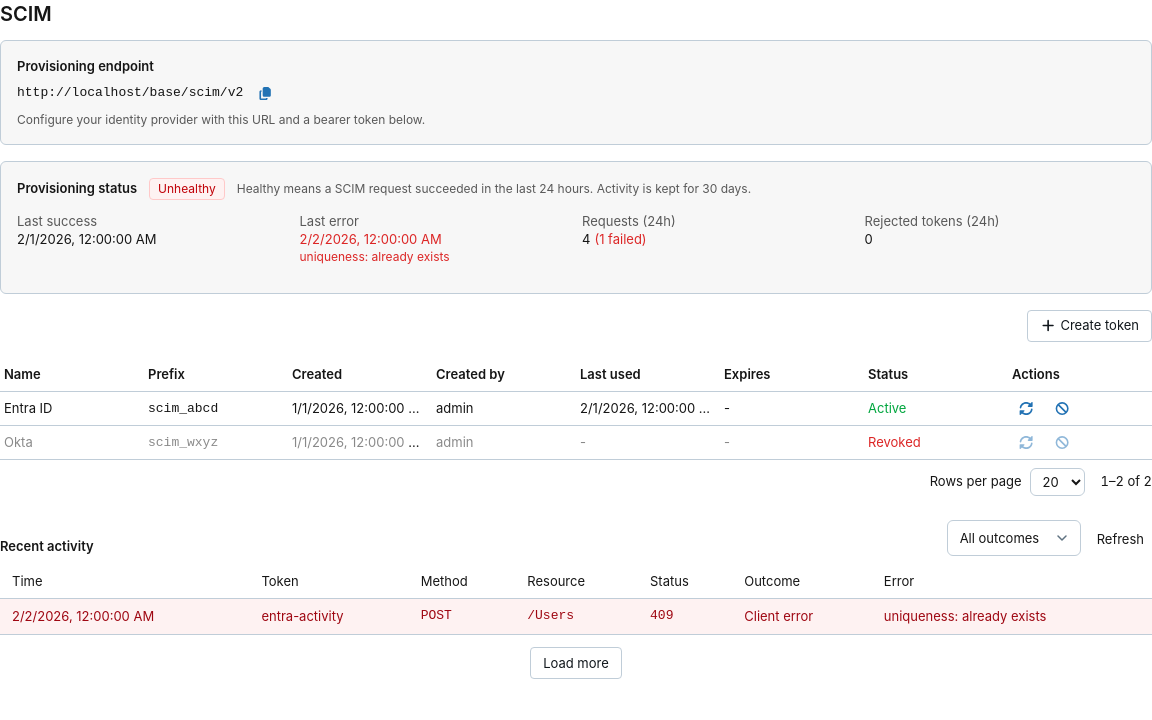
Test: ScimPage › rotates a token after confirmation and refreshes the list
Click the button titled "Rotate" in the row of "Entra ID" at (1026, 408), box [1012,394,1040,422]
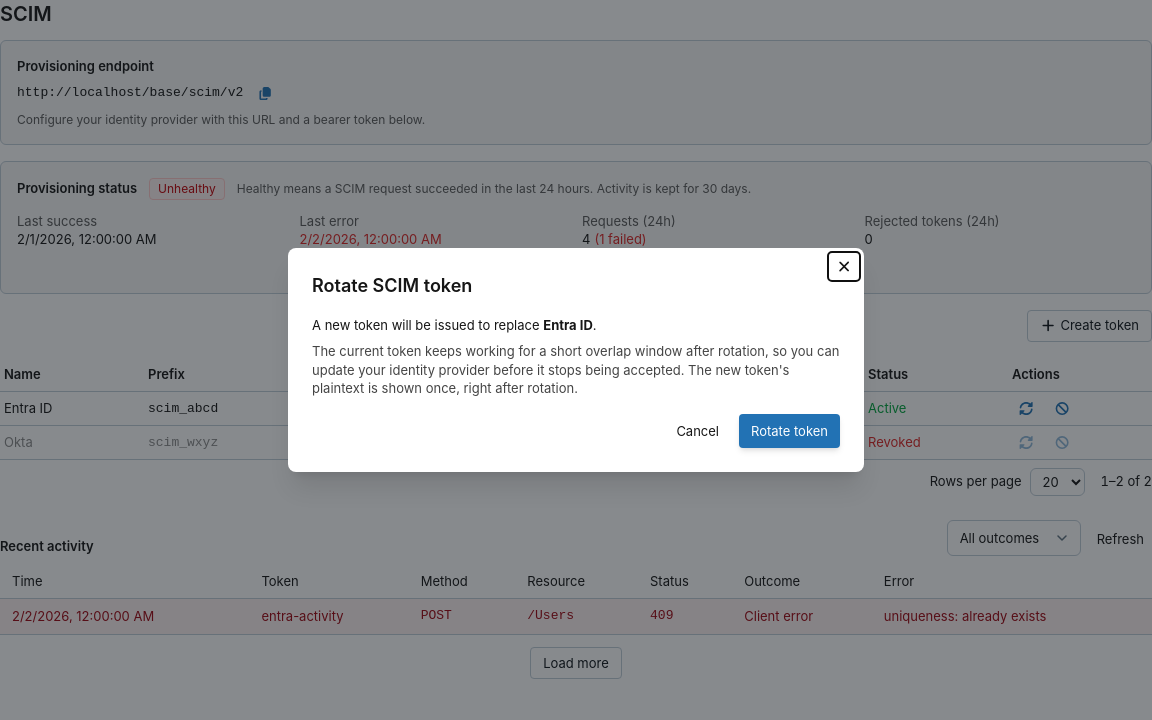
Result: the heading "Rotate SCIM token" is shown at [312,275,472,296]
Result: the text "overlap window" is shown at [312,343,840,396]
Click the button "Rotate token" at (790, 431), box [739,414,840,448]
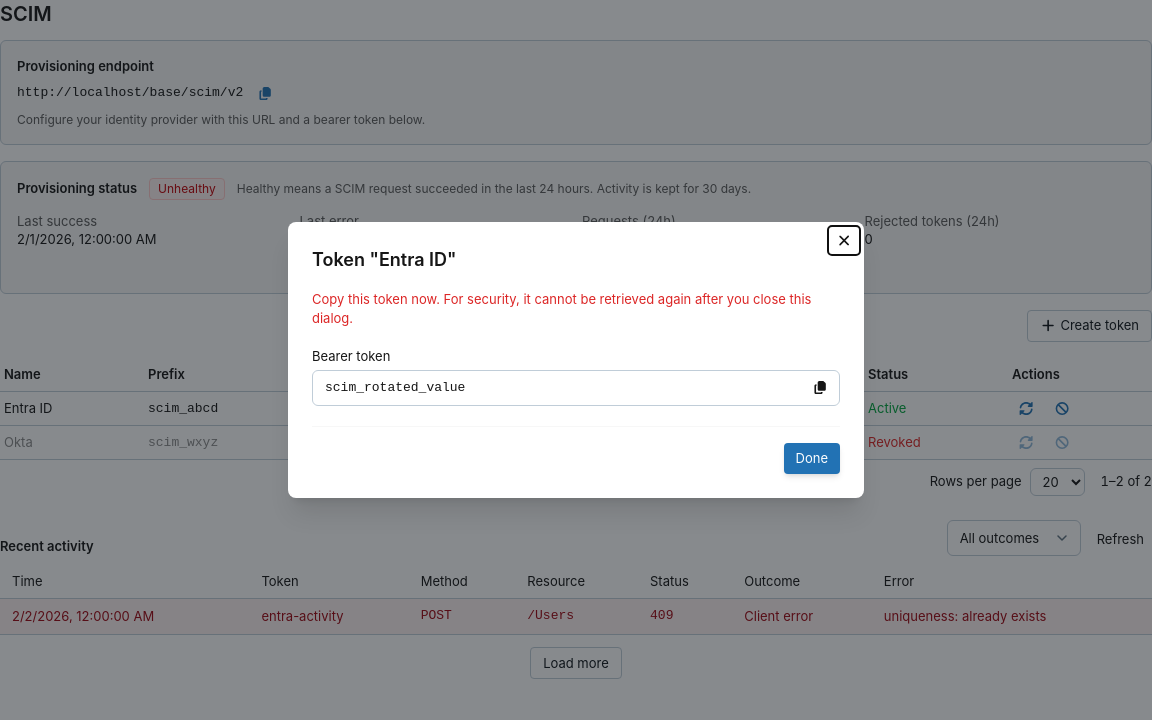
Result: the field showing "scim_rotated_value" is shown at [312,370,840,406]
